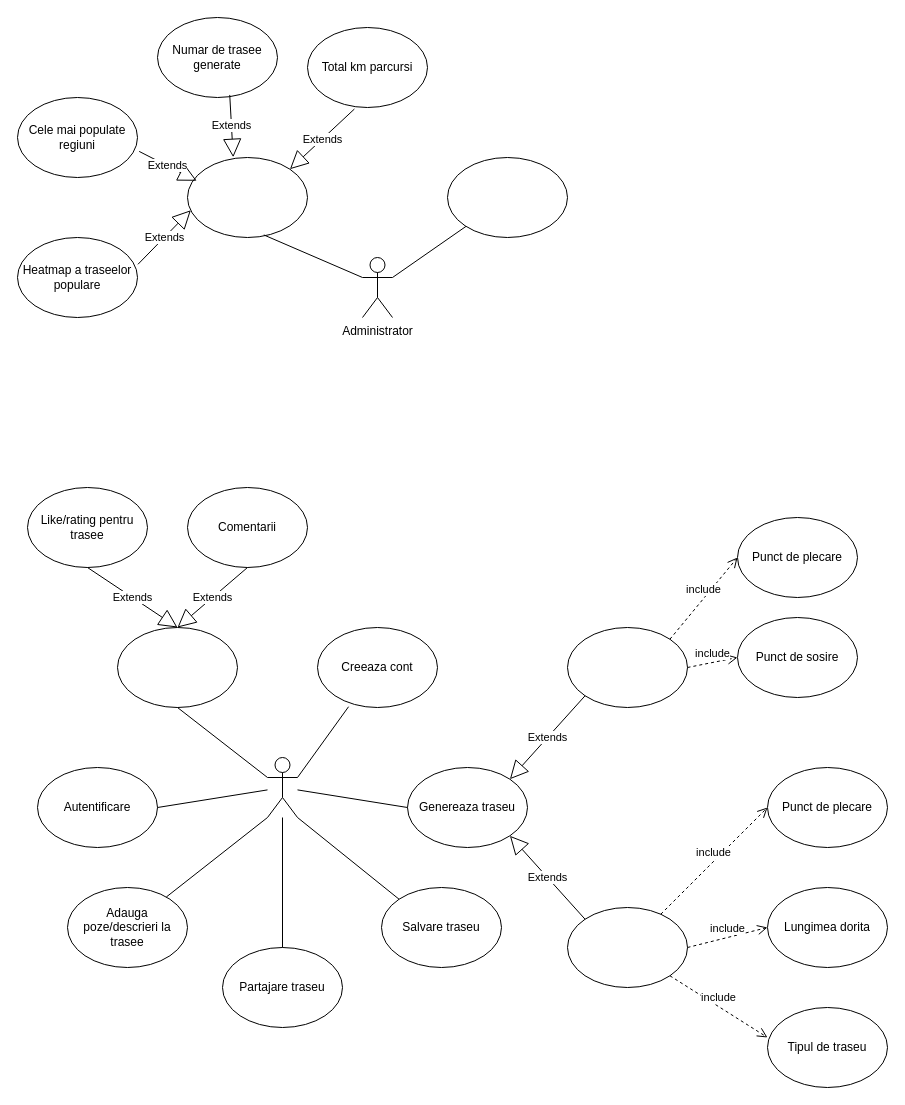
Image size: 905x1105. Some labels were removed from this diagram. The shapes that lost their labels are listed below. From the top down, each one's centre as x and y in pixels, then its label:
At pixel 247 197: "Statistici / dashboard".
At pixel 507 197: "Sterge conturi".
At pixel 177 667: "Interactioneaza cu alti useri".
At pixel 627 667: "Personalizat".
At pixel 282 787: "User".
At pixel 627 947: "Aleatoriu".
